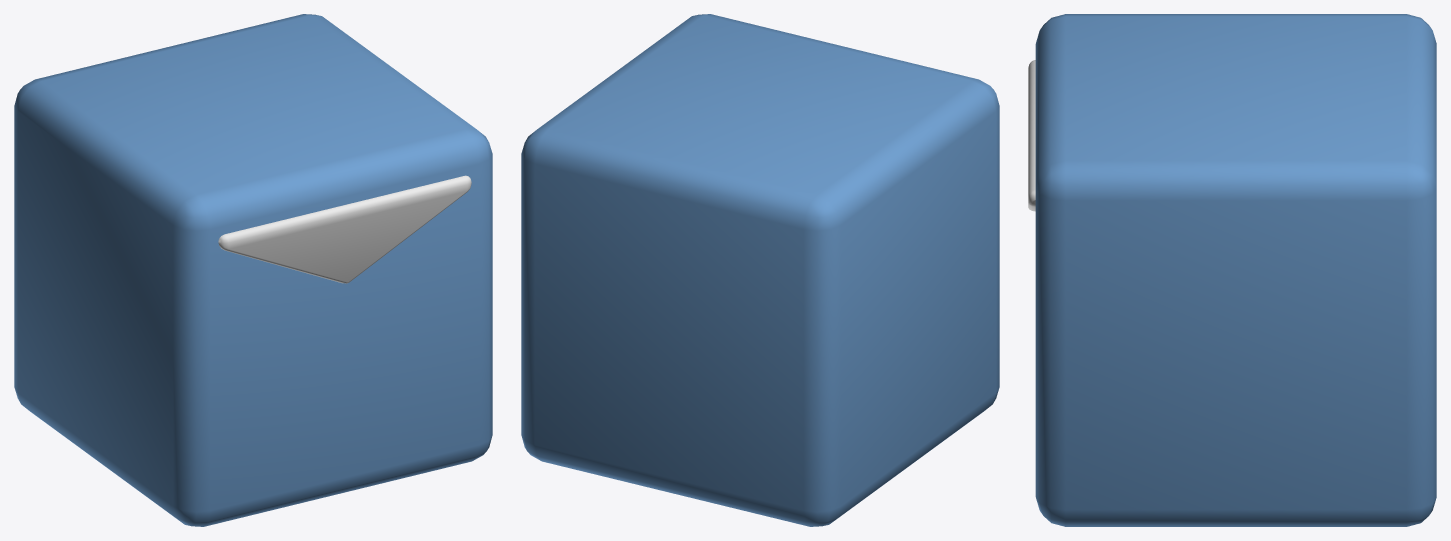
The model's file is bnote.glb.
The picture shows the model from 3 angles, left to right: view 1: azimuth 30°, elevation 25°; view 2: azimuth 150°, elevation 25°; view 3: azimuth 270°, elevation 25°; orthographic projection. The views are drawn at different scales.
Visible parts, largest first — view 1: Cube, Plane; view 2: Cube; view 3: Cube, Plane.
Part boxes in pixels (bbox=[...]): Cube: bbox=[14, 14, 492, 526]; Plane: bbox=[218, 175, 471, 283]; Cube: bbox=[521, 14, 999, 526]; Cube: bbox=[1035, 14, 1436, 526]; Plane: bbox=[1028, 60, 1035, 211].
Size of the model in its own units: 1 by 1 by 1.02.
